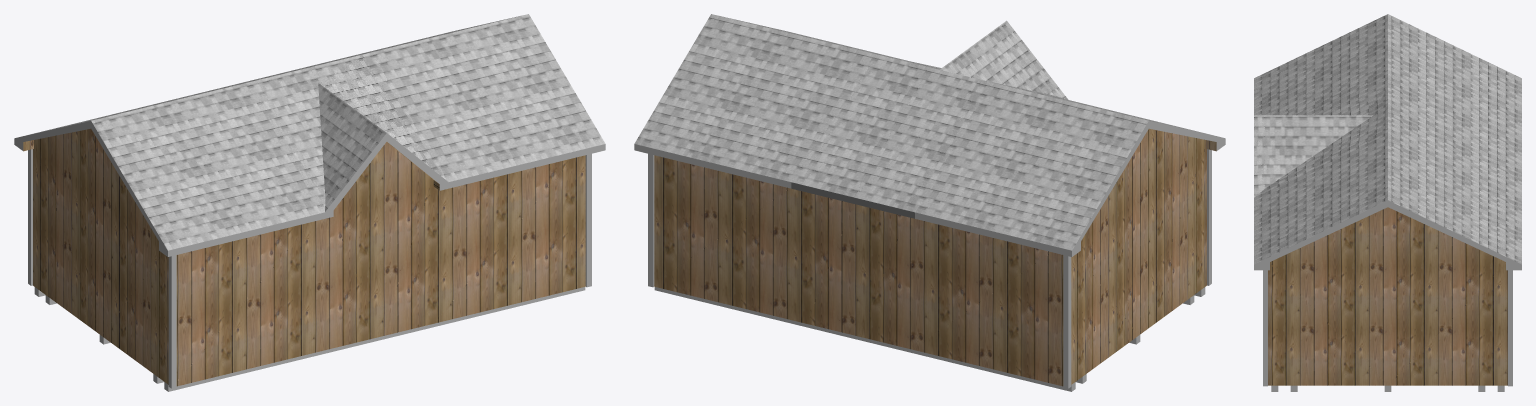
Rendered from Victorian Shed_12x20.obj.
3 renders of one model, left to right at view 1: azimuth 30°, elevation 25°; view 2: azimuth 150°, elevation 25°; view 3: azimuth 270°, elevation 25°, orthographic. The views are drawn at different scales.
Visible parts, largest first — view 1: Shed, Roof, Sides, Trim, Floor; view 2: Shed, Roof, Sides, Trim, Floor; view 3: Roof, Shed, Sides, Trim, Floor.
Part boxes in pixels (<box>): Shed: <box>23,128,585,386</box>; Roof: <box>20,14,605,250</box>; Sides: <box>14,121,605,256</box>; Trim: <box>28,149,591,388</box>; Floor: <box>34,287,585,391</box>; Shed: <box>654,128,1216,386</box>; Roof: <box>634,14,1219,250</box>; Sides: <box>634,121,1225,256</box>; Trim: <box>648,149,1211,388</box>; Floor: <box>654,287,1205,391</box>; Roof: <box>1254,14,1521,264</box>; Shed: <box>1268,207,1507,385</box>; Sides: <box>1254,200,1521,270</box>; Trim: <box>1263,270,1512,386</box>; Floor: <box>1271,385,1504,391</box>.
Size of the model in its own units: 6.4 by 3.14 by 3.89.
